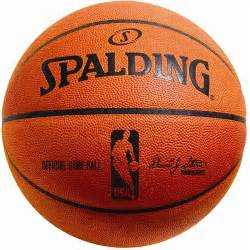basketball: (1, 1, 247, 250)
